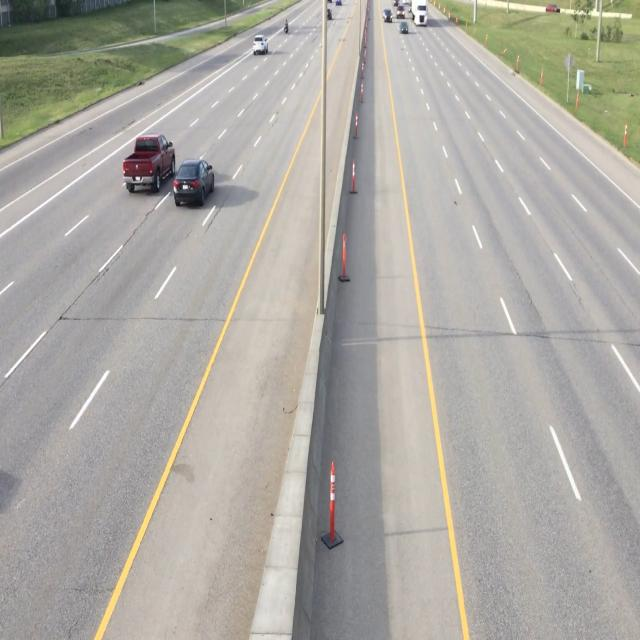Car: (121, 130, 175, 194), (174, 159, 215, 207), (252, 32, 269, 58)
